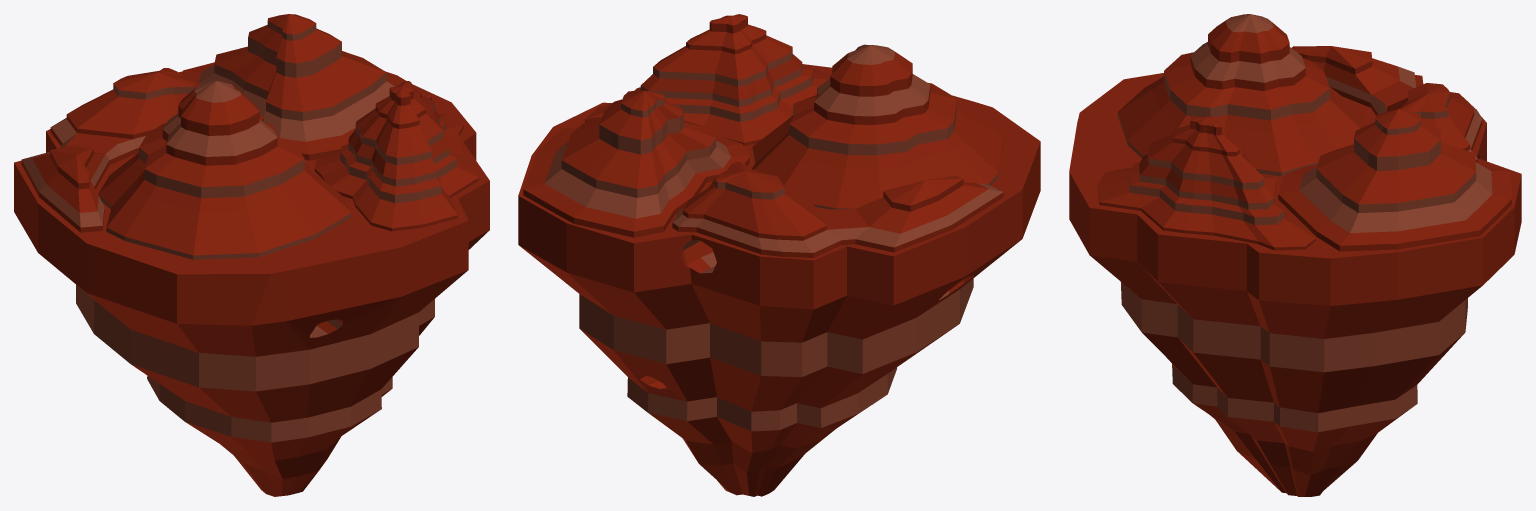
Rendered from Tering Groot Eiland.fbx.
3 views of the same model, side by side, from view 1: azimuth 30°, elevation 25°; view 2: azimuth 150°, elevation 25°; view 3: azimuth 270°, elevation 25° (orthographic). The views are drawn at different scales.
Parts seen in each view (by area): view 1: wkankerieland; view 2: wkankerieland; view 3: wkankerieland.
Part boxes in pixels (x1,y1,x2,y2): wkankerieland: (14, 14, 489, 496); wkankerieland: (518, 14, 1040, 496); wkankerieland: (1069, 14, 1521, 496).
Size of the model in its own units: 106736 by 109184 by 104069.
